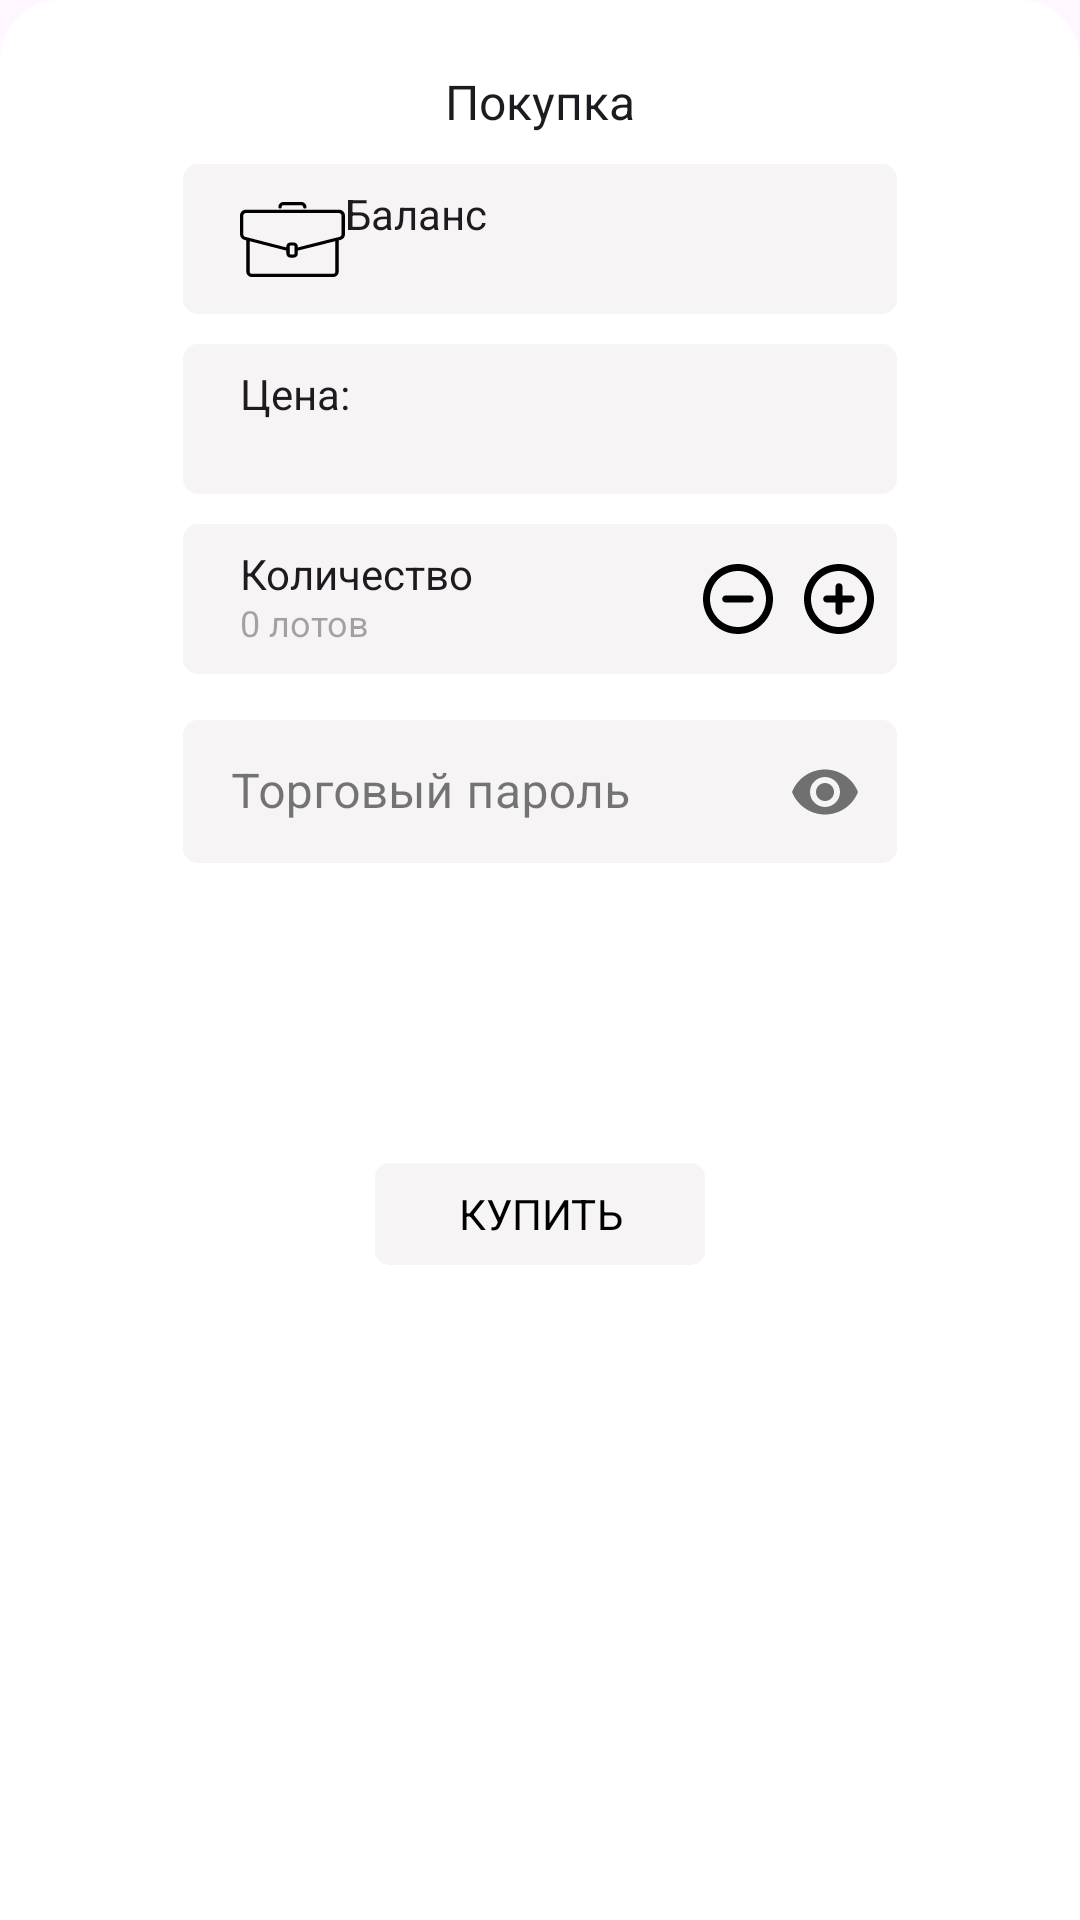

Icons on this 1080w x 1920h Android screen, each with its box as (x1, y1, x2, y2):
briefcase: (240, 202, 345, 277)
circle minus: (703, 564, 773, 634)
circle plus: (804, 564, 874, 634)
